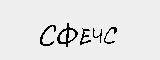Е: (80, 26, 93, 46)
С: (39, 24, 56, 46), (103, 24, 118, 45)
Ф: (59, 21, 75, 49)
Ч: (93, 27, 103, 44)
